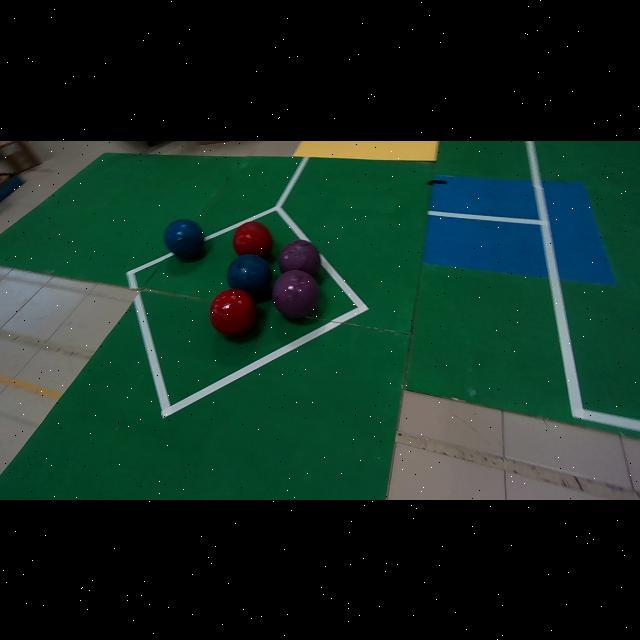B: (227, 255, 270, 297), (164, 219, 204, 258)
P: (271, 269, 319, 318), (279, 239, 320, 276)
R: (210, 288, 258, 336), (233, 220, 274, 257)
